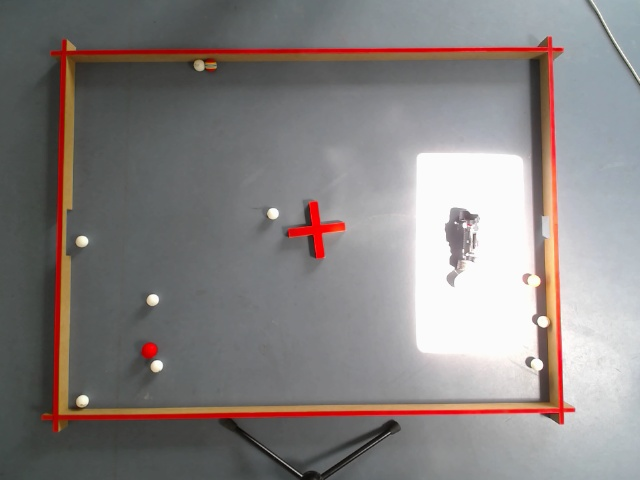big_goal: (64, 209, 72, 255)
cross: (286, 201, 346, 258)
orange: (527, 273, 541, 285)
robot: (452, 210, 481, 269)
small_goal: (541, 215, 548, 237)
wall: (68, 59, 548, 408)
white: (531, 357, 547, 369), (144, 293, 159, 305), (150, 360, 163, 372), (72, 236, 88, 245), (193, 59, 204, 72), (266, 207, 278, 218), (76, 395, 89, 405), (537, 315, 548, 326)
